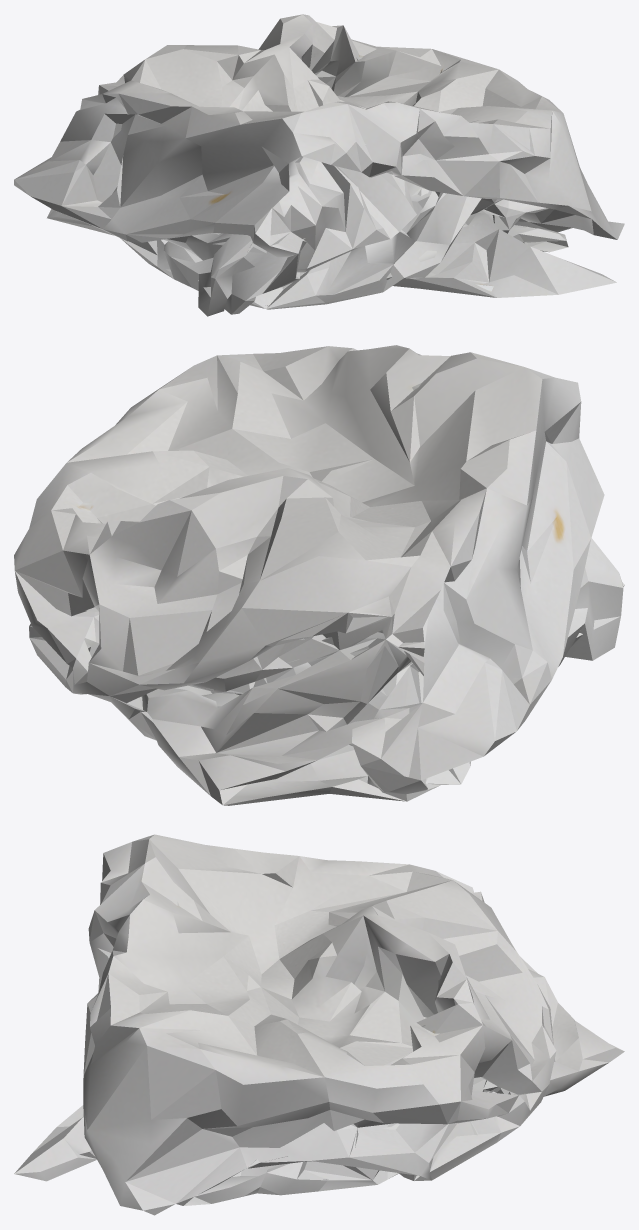
Rendered from lenzuolo_N.glb.
3 views of the same model, one above another, from view 1: azimuth 30°, elevation 25°; view 2: azimuth 150°, elevation 25°; view 3: azimuth 270°, elevation 25° (orthographic). The views are drawn at different scales.
Size of the model in its own units: 1.77 by 0.7281 by 1.91.
Materials: 1 (1 with a texture image).
